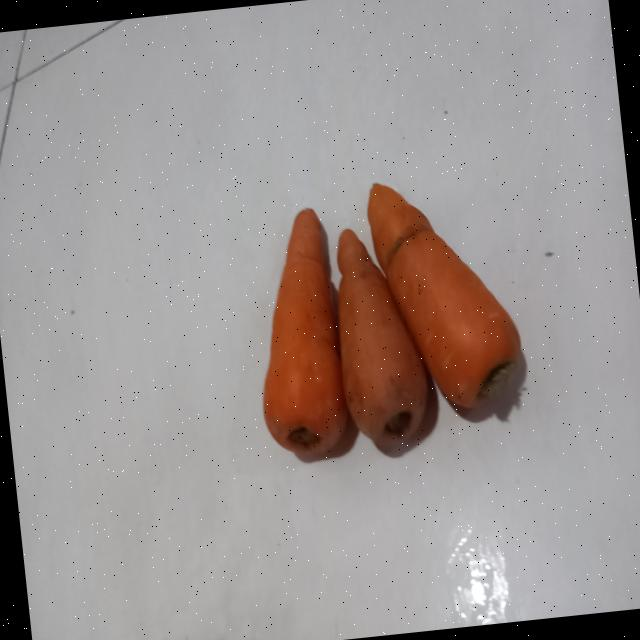carrot: (367, 183, 520, 407), (263, 209, 348, 456), (337, 228, 427, 446)
